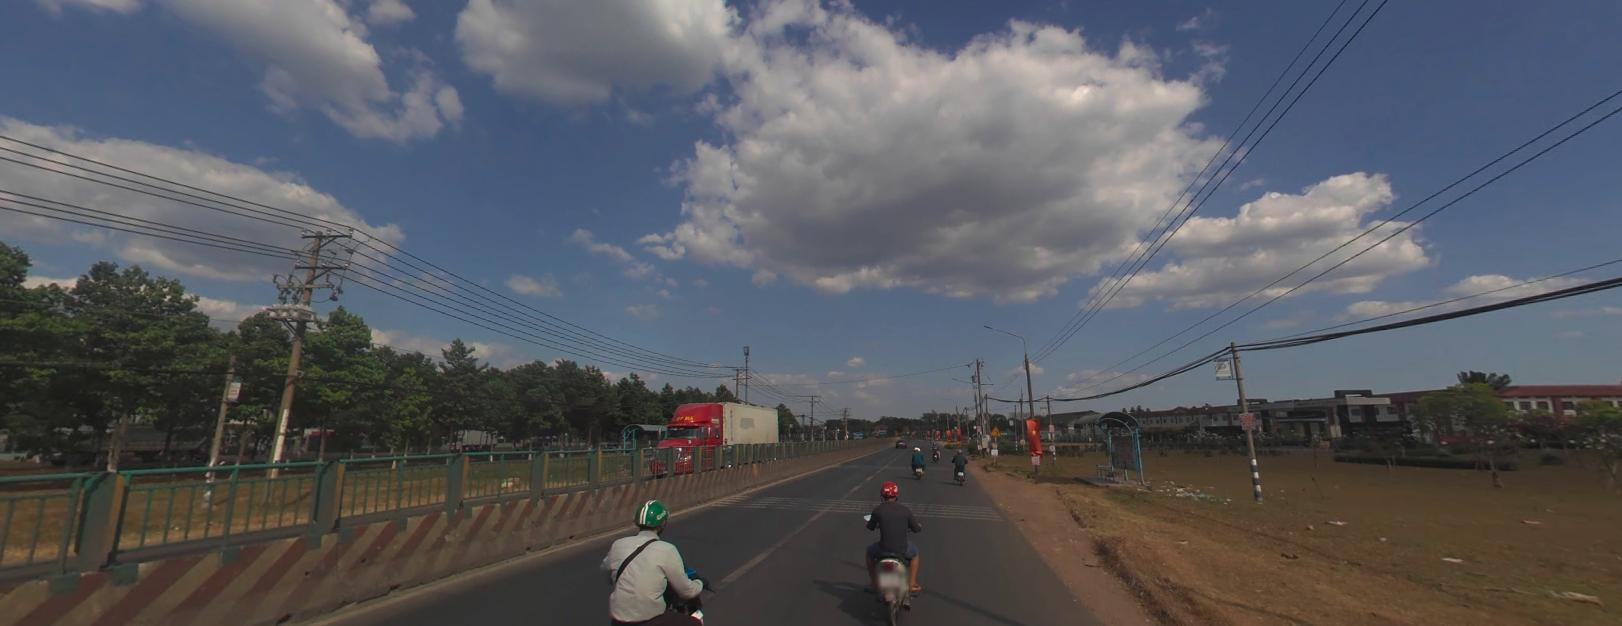Nguy hiem: (989, 424, 1001, 435)
